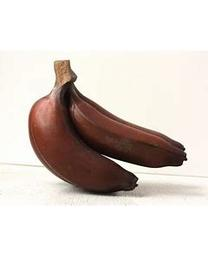banana: (28, 59, 189, 194)
